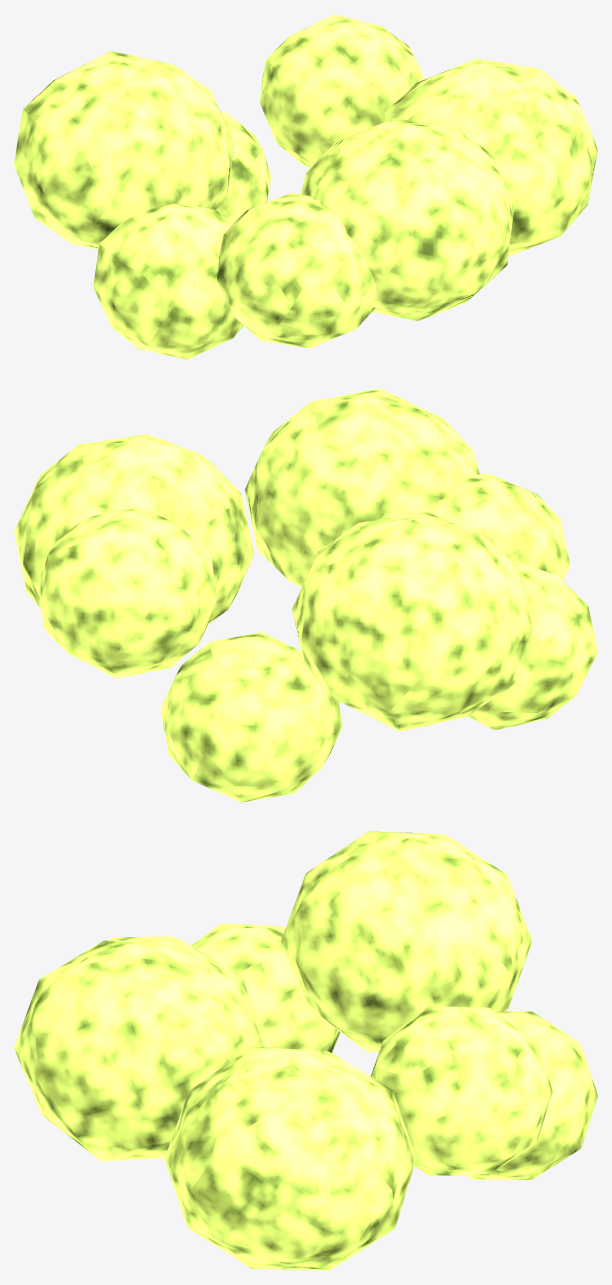
File: bead_cluster.glb
3 renders of one model, top to bottom at view 1: azimuth 30°, elevation 25°; view 2: azimuth 150°, elevation 25°; view 3: azimuth 270°, elevation 25°, orthographic. The views are drawn at different scales.
Parts seen in each view (by area): view 1: BeadCluster; view 2: BeadCluster; view 3: BeadCluster.
Boxes of the visible parts, x1=… form: BeadCluster: x1=14, y1=14, x2=597, y2=359; BeadCluster: x1=14, y1=388, x2=597, y2=802; BeadCluster: x1=14, y1=831, x2=597, y2=1270.
Bounding box in the file's own units: 0.3266 × 0.156 × 0.2967.
1 material, 1 textured.
